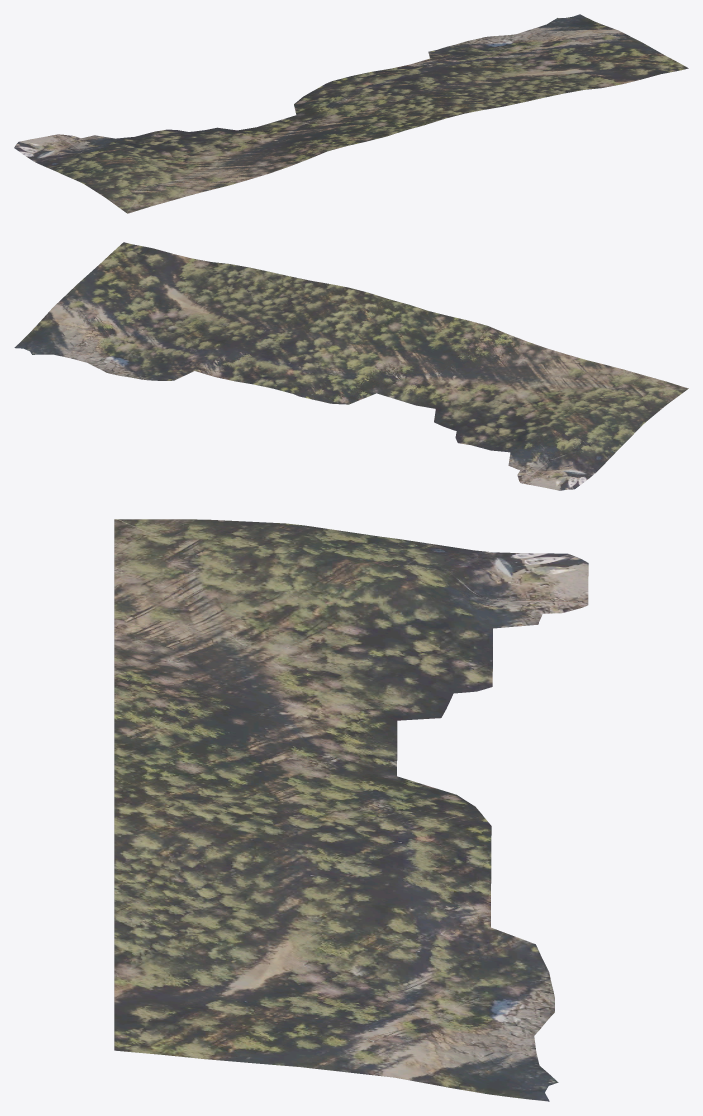
File: CM_Terrain_24489025_6822865.fbx
3 renders of one model, top to bottom at view 1: azimuth 30°, elevation 25°; view 2: azimuth 150°, elevation 25°; view 3: azimuth 270°, elevation 25°, orthographic. The views are drawn at different scales.
Parts seen in each view (by area): view 1: CM_Terrain_24489025_6822865_LOD0; view 2: CM_Terrain_24489025_6822865_LOD0; view 3: CM_Terrain_24489025_6822865_LOD0.
Part boxes in pixels (left/top/right/bottom): CM_Terrain_24489025_6822865_LOD0: left=14, top=14, right=688, bottom=213; CM_Terrain_24489025_6822865_LOD0: left=14, top=242, right=688, bottom=490; CM_Terrain_24489025_6822865_LOD0: left=114, top=519, right=588, bottom=1101.
Size of what is drawn, in the model's own units: 205 by 12.9 by 74.88.
